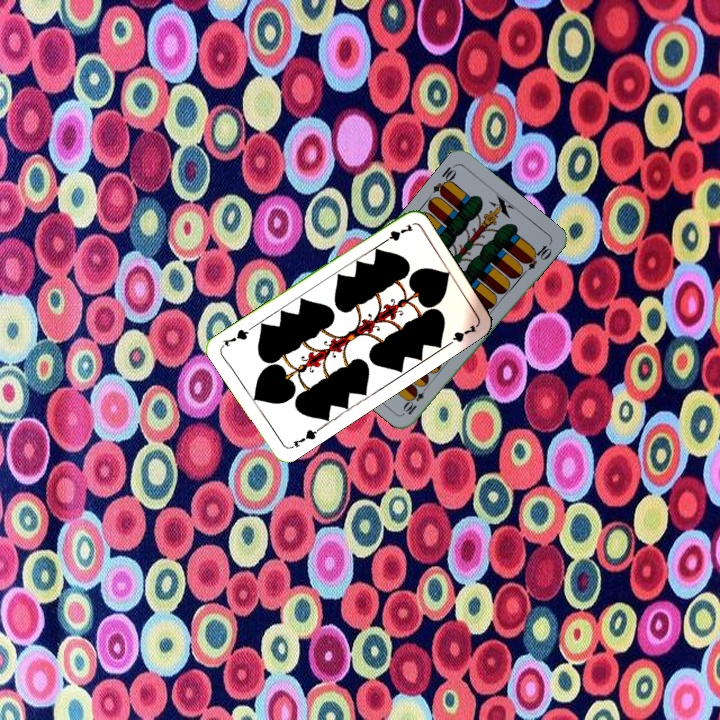E10: (400, 381, 431, 417), (429, 161, 459, 198)
G7: (377, 220, 415, 247), (285, 425, 322, 452)
